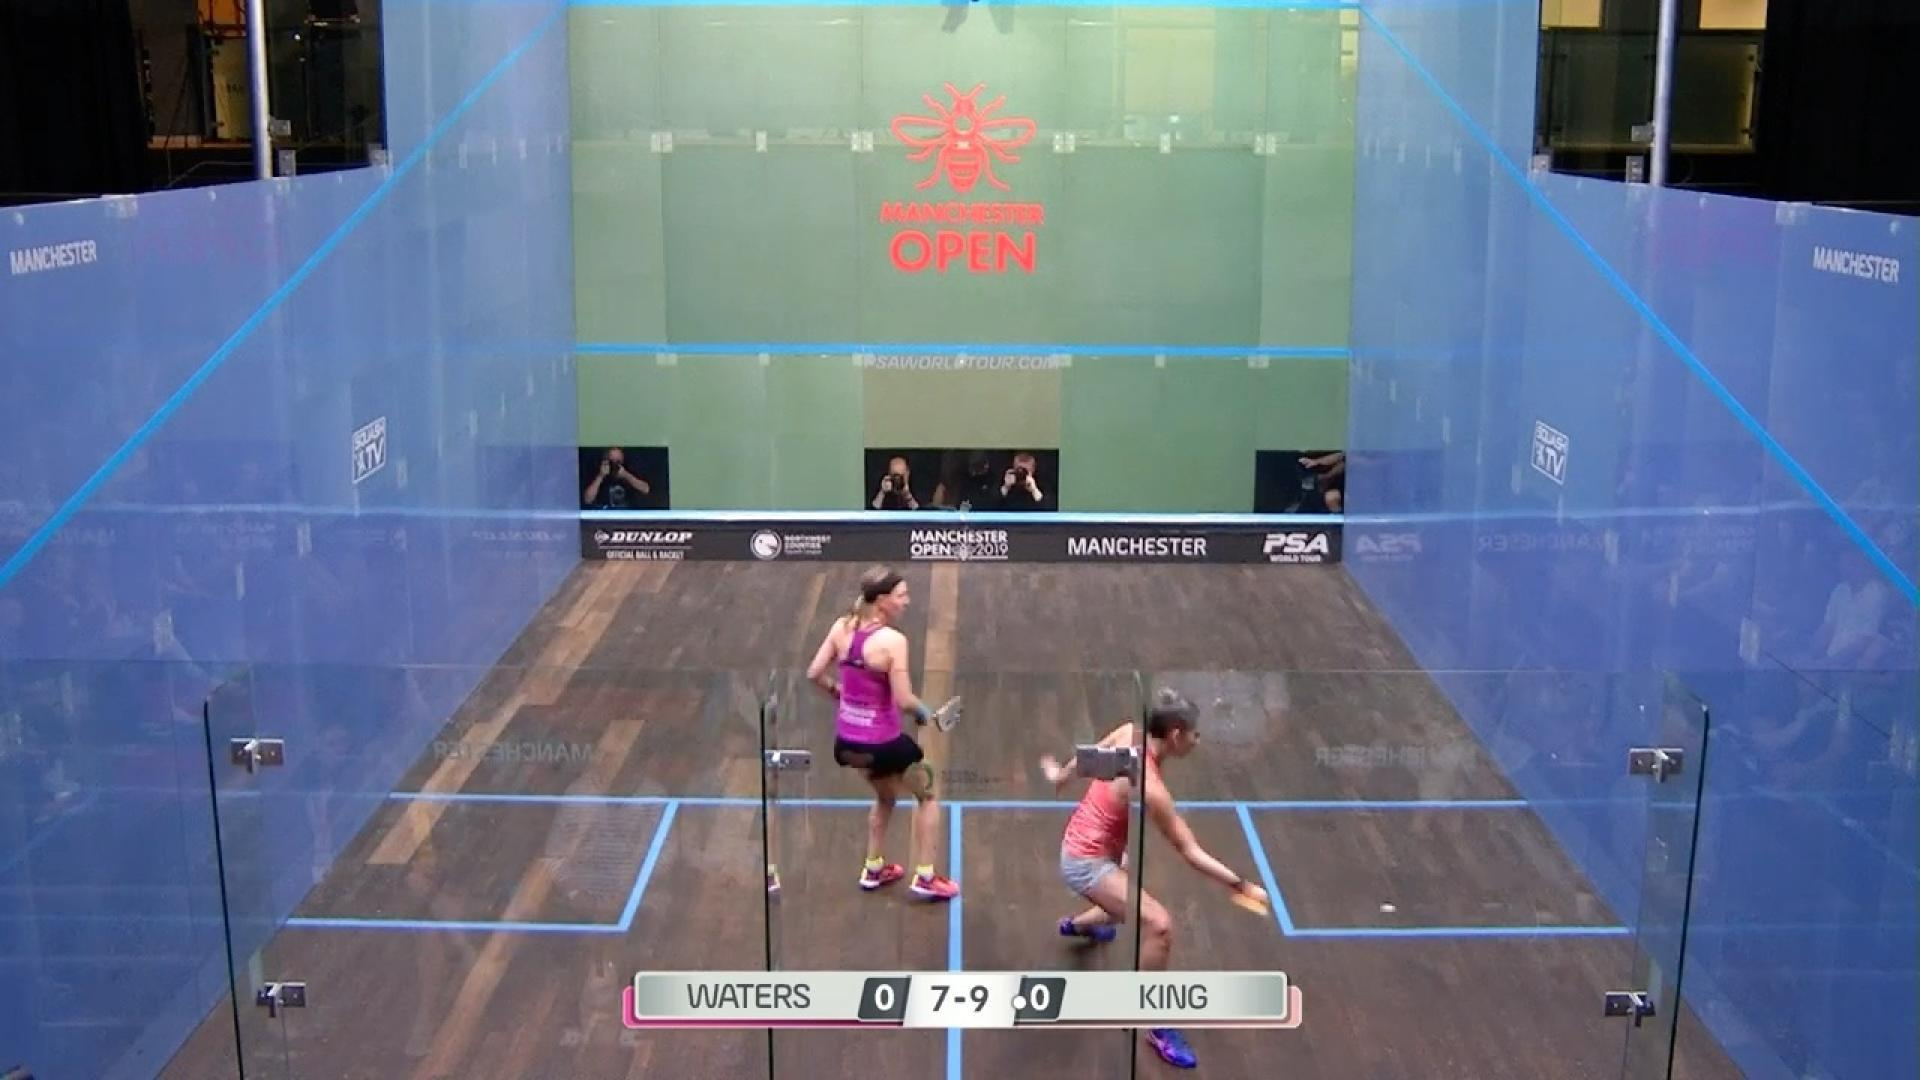Squash-Ball: (1370, 890, 1418, 935)
